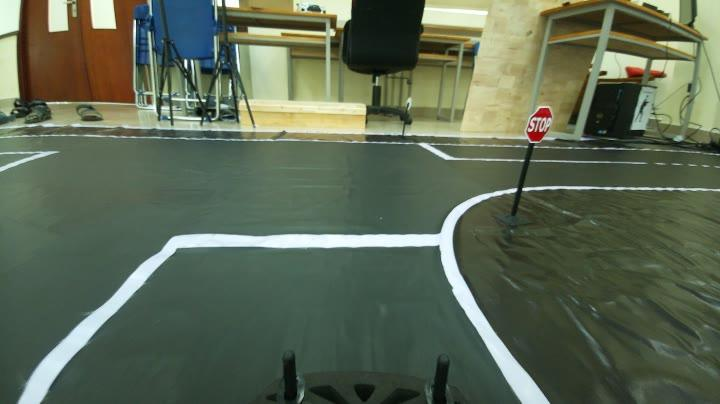stop: (520, 102, 556, 146)
